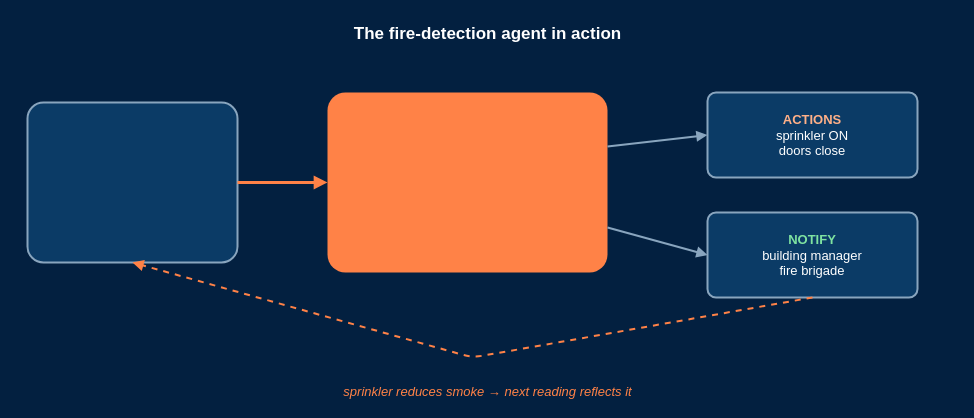
Some shapes in this 974 by 418 pixel diagram are drawn without their labels. Each missing label, with the centre of its shape:
"Safety agent T: smoke + temp consistent with active fire. A: sprinkler_on(A2306)" belongs at (467,182).
"SENSOR INPUT smoke: 0.82 temp: 41 °C room: A2306 spike detected" belongs at (132,182).
